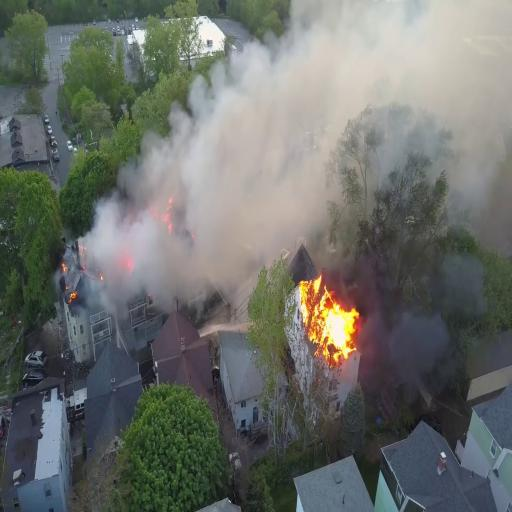fire: (301, 277, 361, 366)
